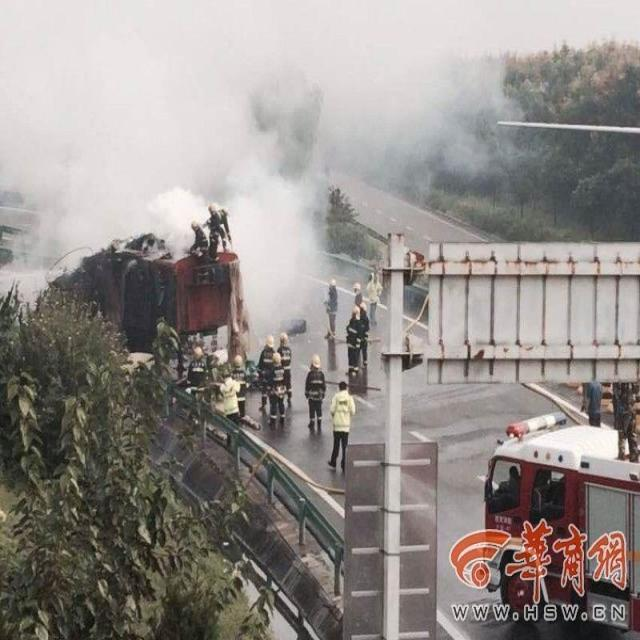Smoke: (0, 1, 528, 362)
